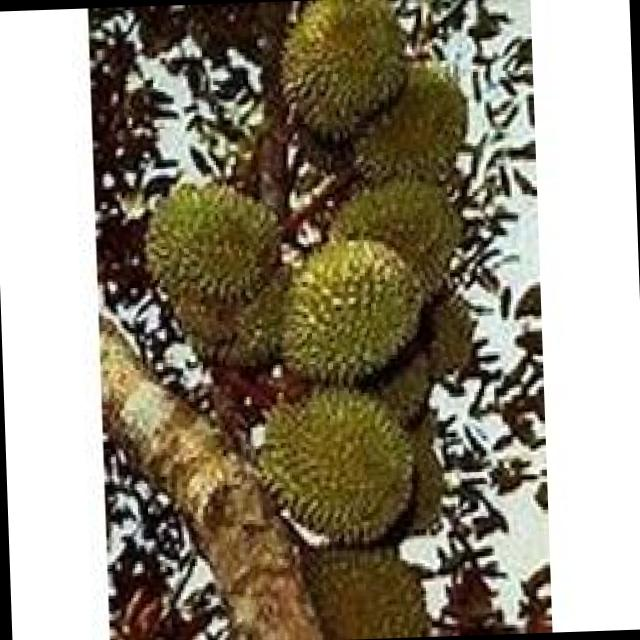fruit: (232, 365, 436, 563), (250, 0, 474, 165), (280, 527, 449, 640)
